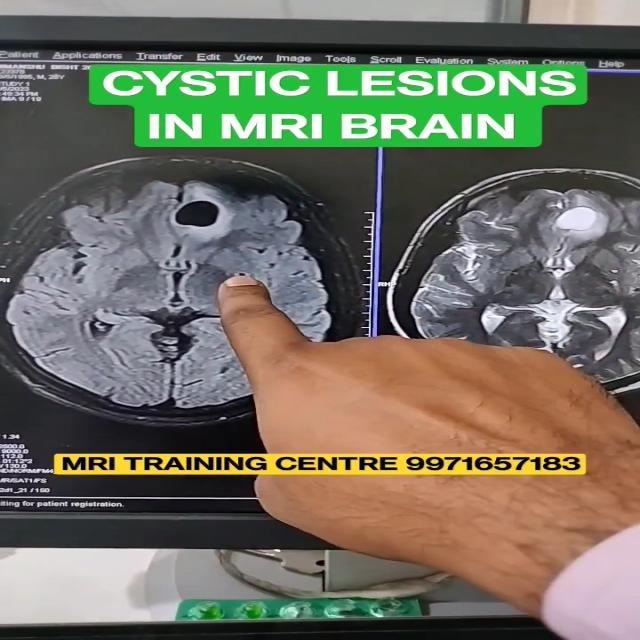tumor: (528, 205, 640, 260), (161, 189, 249, 254)
